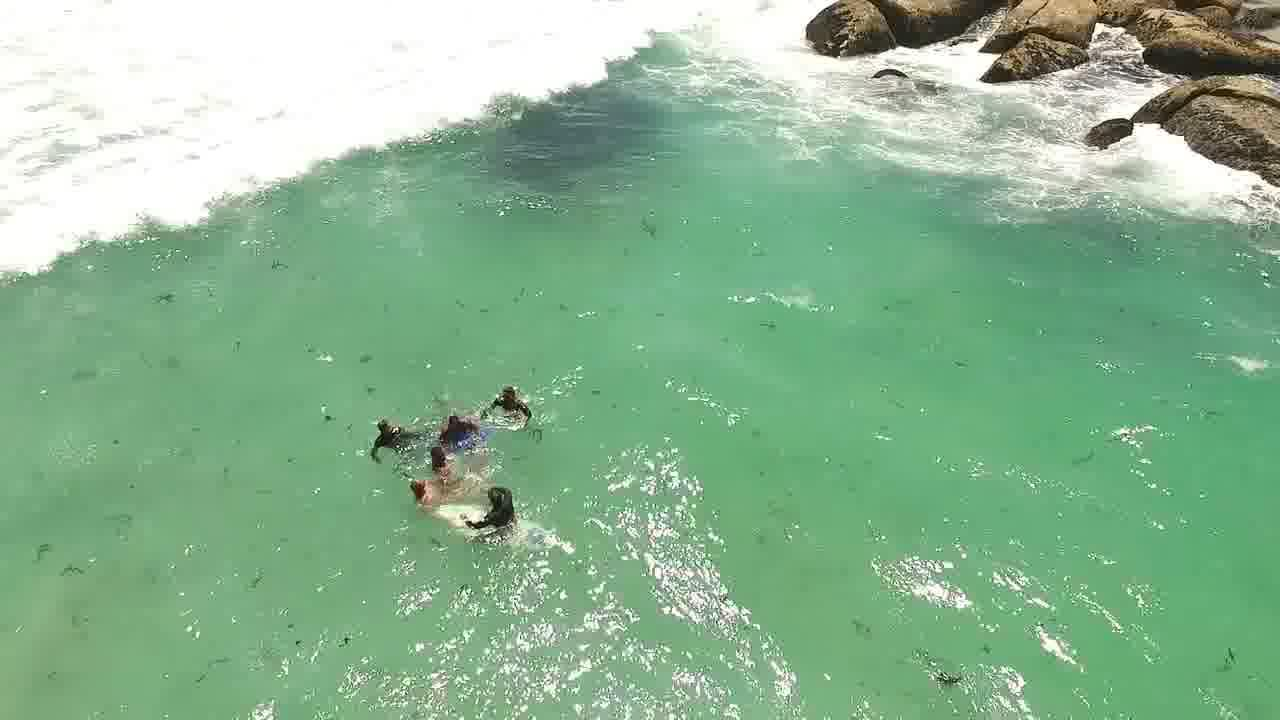swimmer: (343, 411, 418, 457), (483, 378, 546, 426), (434, 397, 487, 448), (420, 431, 468, 479), (397, 470, 447, 508)
